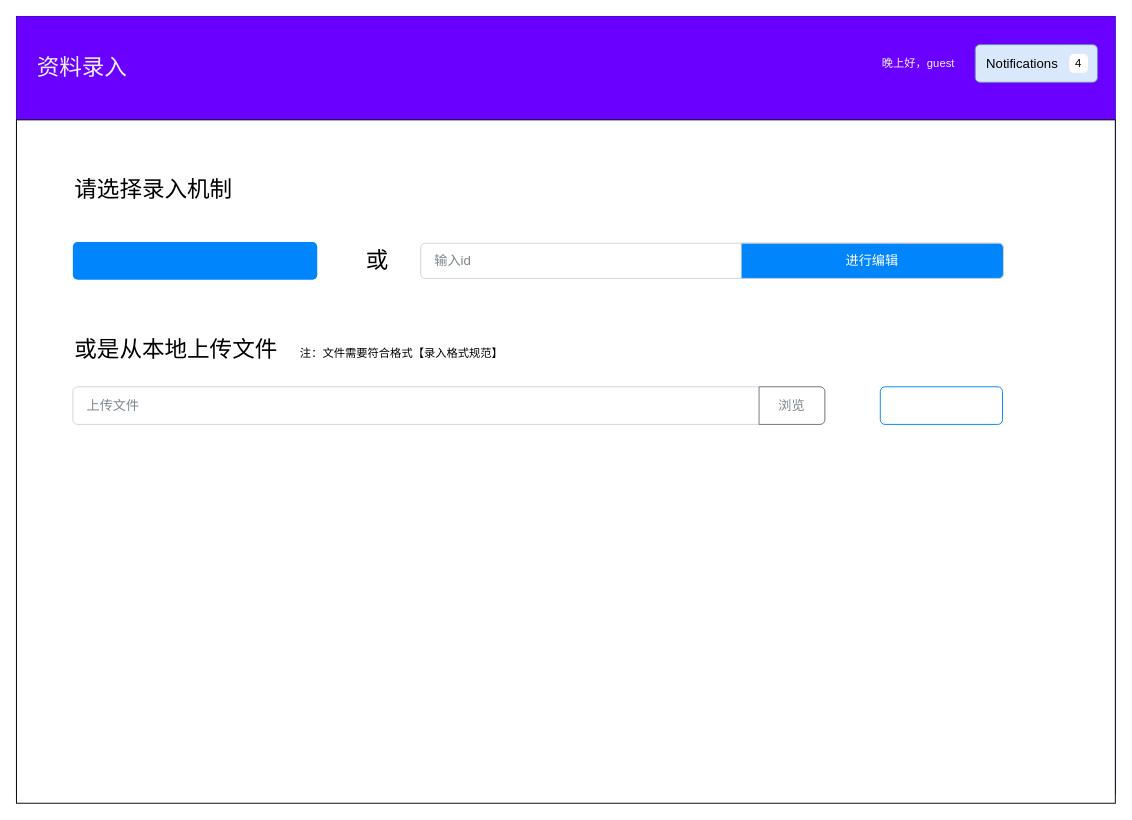
This 1132x820 diagram has some shape labels left out. Here are the shapes that lost their labels. From the top down, the centre of each, then its label:
the point at 194,260: 新建资料
the point at 941,405: 提交
